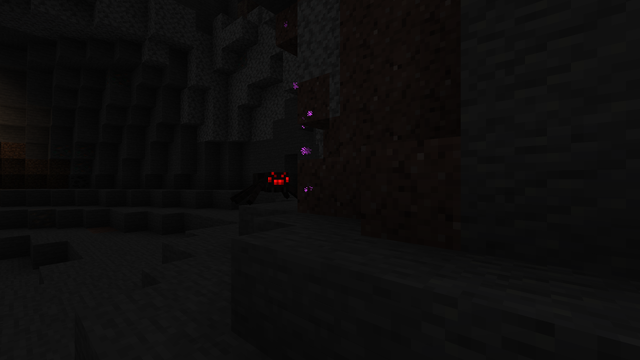araignees: (234, 167, 290, 205)
